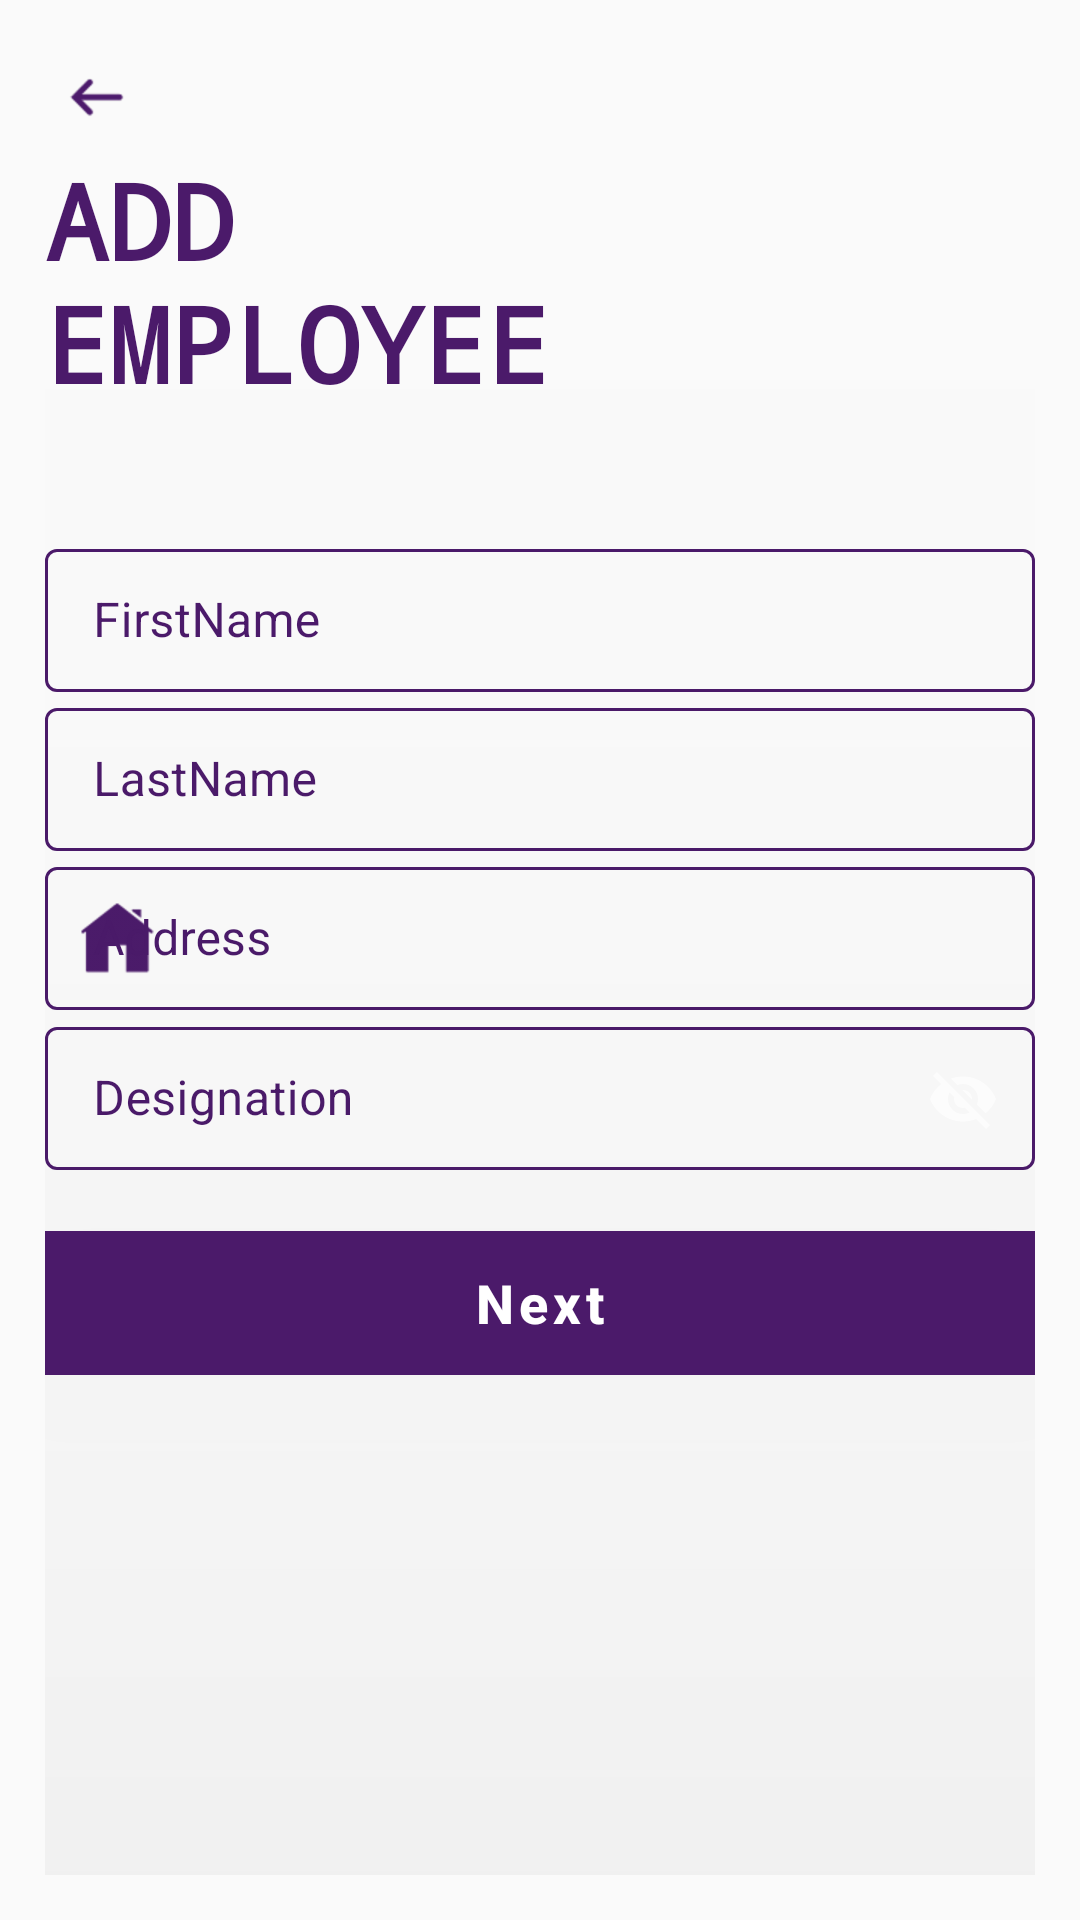

Icon click points for this 1080 × 1920 phone screenshot, format (x=x, y=y):
left: (x=96, y=97)
